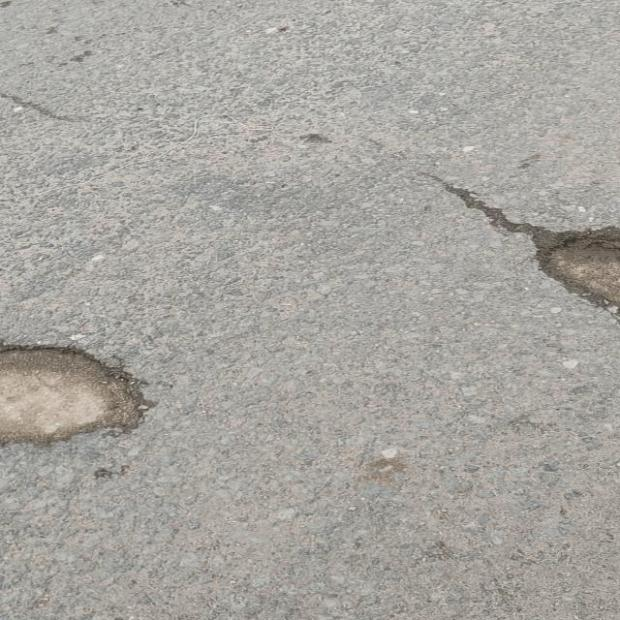lubang: (0, 340, 154, 447)
